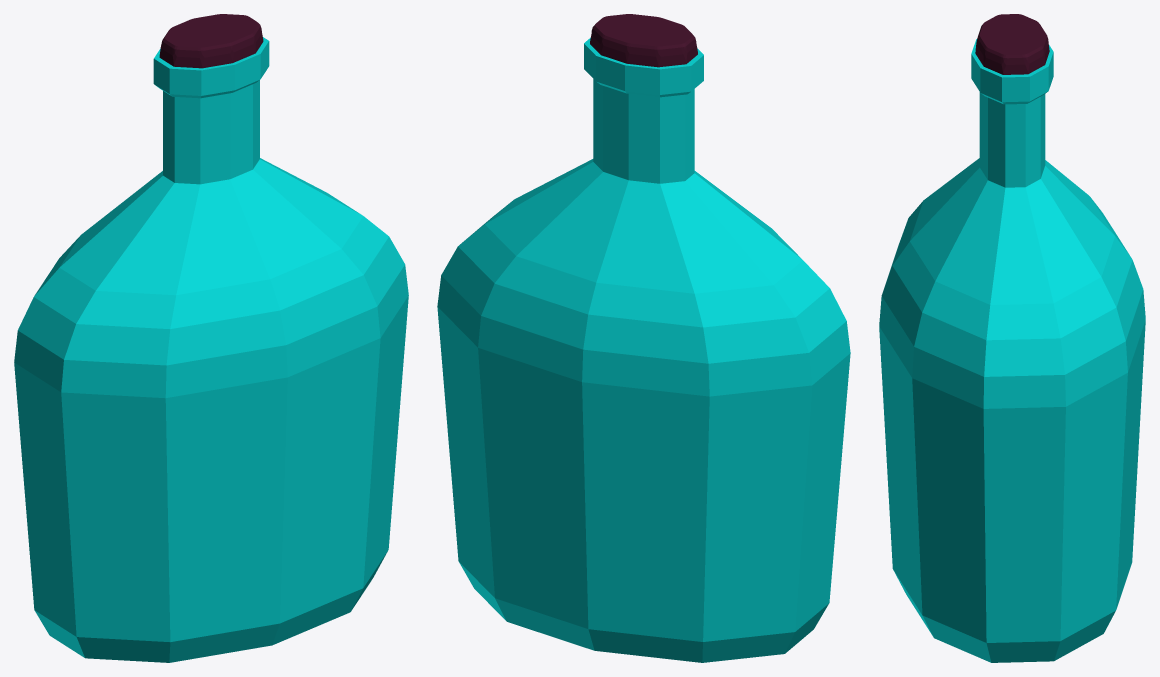
The model's file is Kitchen_SmallProps_VaseTwo.fbx.
3 renders of one model, left to right at view 1: azimuth 30°, elevation 25°; view 2: azimuth 150°, elevation 25°; view 3: azimuth 270°, elevation 25°, orthographic. The views are drawn at different scales.
Parts seen in each view (by area): view 1: Vase.001; view 2: Vase.001; view 3: Vase.001.
Part boxes in pixels (<box>): Vase.001: <box>14,14,408,662</box>; Vase.001: <box>437,14,850,662</box>; Vase.001: <box>879,14,1145,662</box>.
Bounding box in the file's own units: 18.37 × 28.23 × 12.02.
